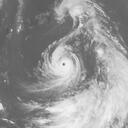cyclone: (39, 44, 82, 87)
